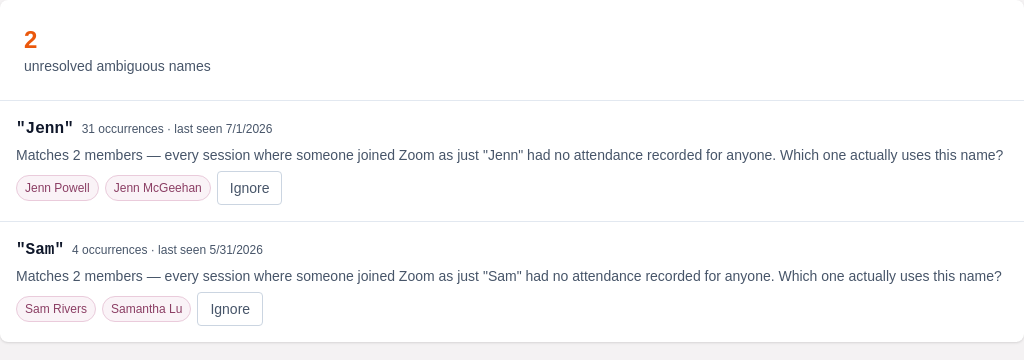
Scenario: AmbiguousNamesResolver › ignores an entry and removes the row
Step 1. Click the button "Ignore" below "5/31/2026" → (230, 309), box 197,292 -> 263,326
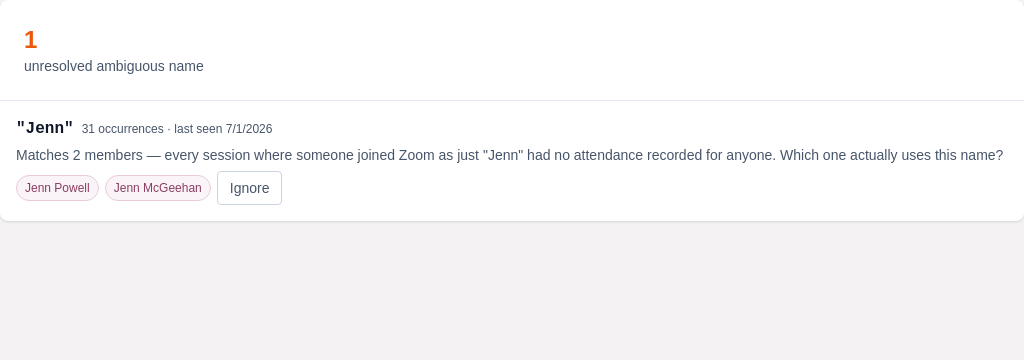
expect the text "\"Jenn\"" is shown: met, box 16,117 -> 74,141
expect the text "\"Sam\"" is gone: met
